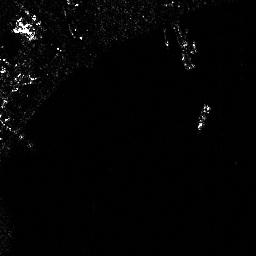ship: (197, 102, 213, 130)
